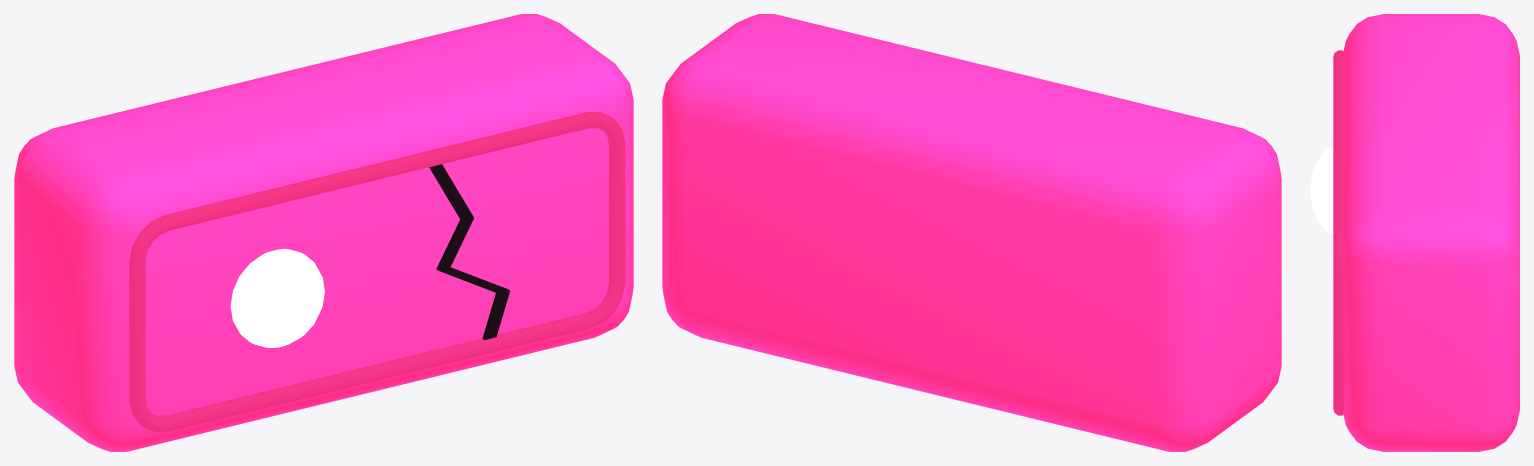
Rendered from brick_double_hit.glb.
The picture shows the model from 3 angles, left to right: view 1: azimuth 30°, elevation 25°; view 2: azimuth 150°, elevation 25°; view 3: azimuth 270°, elevation 25°; orthographic projection. The views are drawn at different scales.
Parts seen in each view (by area): view 1: type_double_hit; view 2: type_double_hit; view 3: type_double_hit.
Boxes of the visible parts, <box> form: type_double_hit: <box>14,14,633,451</box>; type_double_hit: <box>662,14,1281,451</box>; type_double_hit: <box>1310,14,1519,451</box>.
Bounding box in the file's own units: 0.92 × 0.44 × 0.355.
